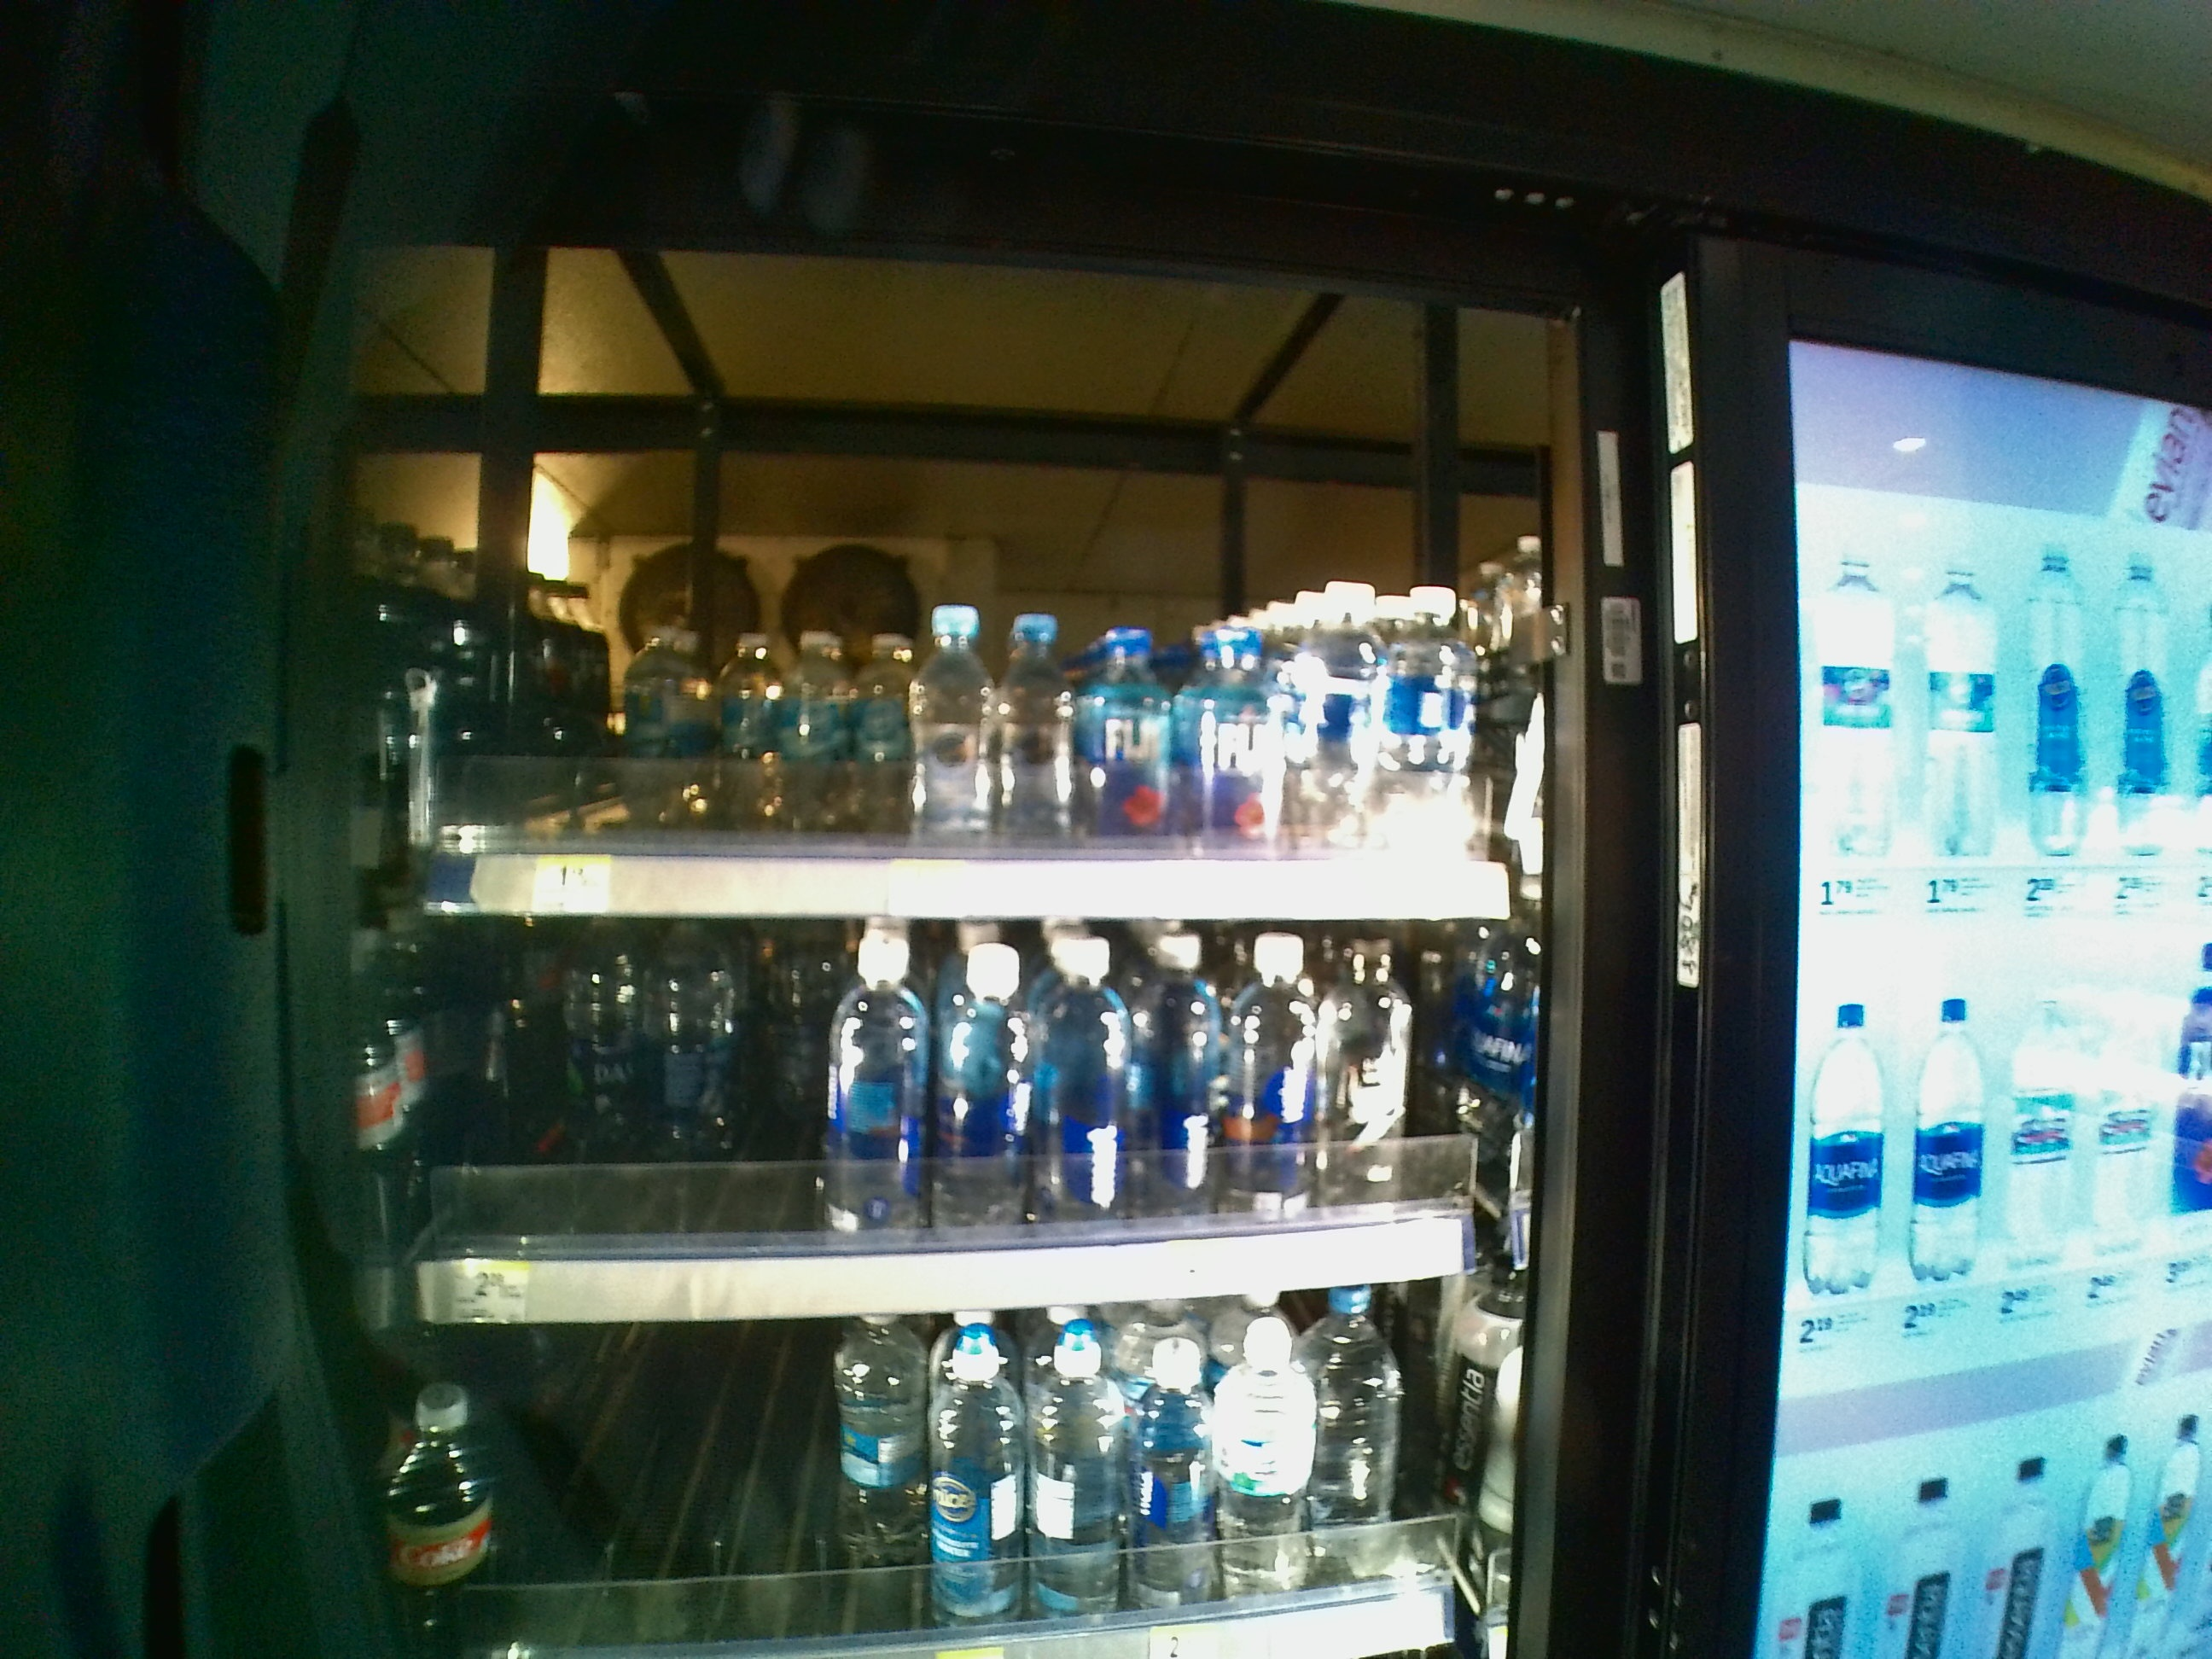Shelf: (303, 436, 1561, 918), (301, 918, 1538, 1328)
